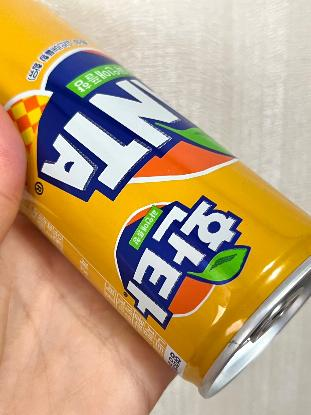Can: (0, 0, 311, 404)
